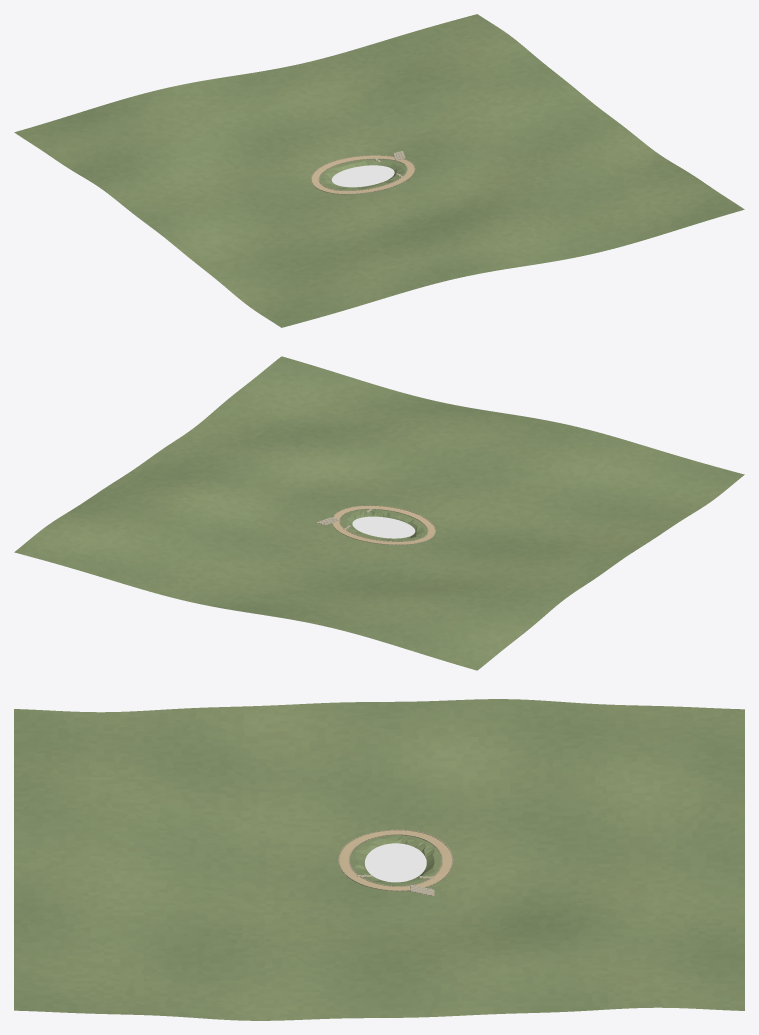
Rendered from landscape.glb.
3 views of the same model, one above another, from view 1: azimuth 30°, elevation 25°; view 2: azimuth 150°, elevation 25°; view 3: azimuth 270°, elevation 25° (orthographic). The views are drawn at different scales.
Visible parts, largest first — view 1: meadow, lake, lakeside-path, path-edging; view 2: meadow, lake, lakeside-path; view 3: meadow, lake, lakeside-path, path-edging.
Part boxes in pixels (x1=…): meadow: x1=14, y1=14, x2=744, y2=327; lake: x1=331, y1=165, x2=394, y2=187; lakeside-path: x1=312, y1=155, x2=414, y2=193; path-edging: x1=311, y1=155, x2=415, y2=194; meadow: x1=14, y1=356, x2=744, y2=670; lake: x1=352, y1=516, x2=415, y2=538; lakeside-path: x1=332, y1=506, x2=435, y2=544; meadow: x1=14, y1=699, x2=744, y2=1020; lake: x1=364, y1=843, x2=426, y2=882; lakeside-path: x1=339, y1=830, x2=451, y2=890; path-edging: x1=338, y1=829, x2=453, y2=891.
Size of the model in its own units: 134 by 5.03 by 134.
